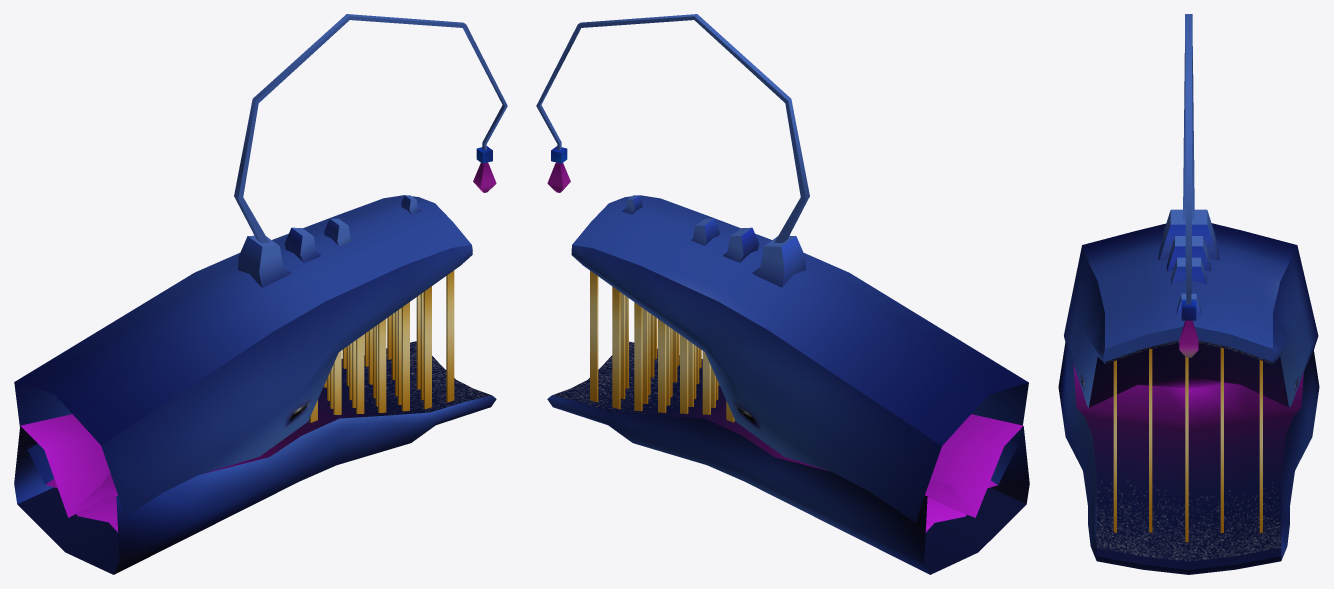
Rendered from Baleine.FBX.
3 renders of one model, left to right at view 1: azimuth 30°, elevation 25°; view 2: azimuth 150°, elevation 25°; view 3: azimuth 270°, elevation 25°, orthographic. The views are drawn at different scales.
Parts seen in each view (by area): view 1: Baleine; view 2: Baleine; view 3: Baleine.
Part boxes in pixels (x1=…): Baleine: x1=14, y1=14, x2=507, y2=574; Baleine: x1=536, y1=14, x2=1029, y2=574; Baleine: x1=1058, y1=14, x2=1319, y2=574.
Size of the model in its own units: 89.26 by 88.39 by 36.07.
